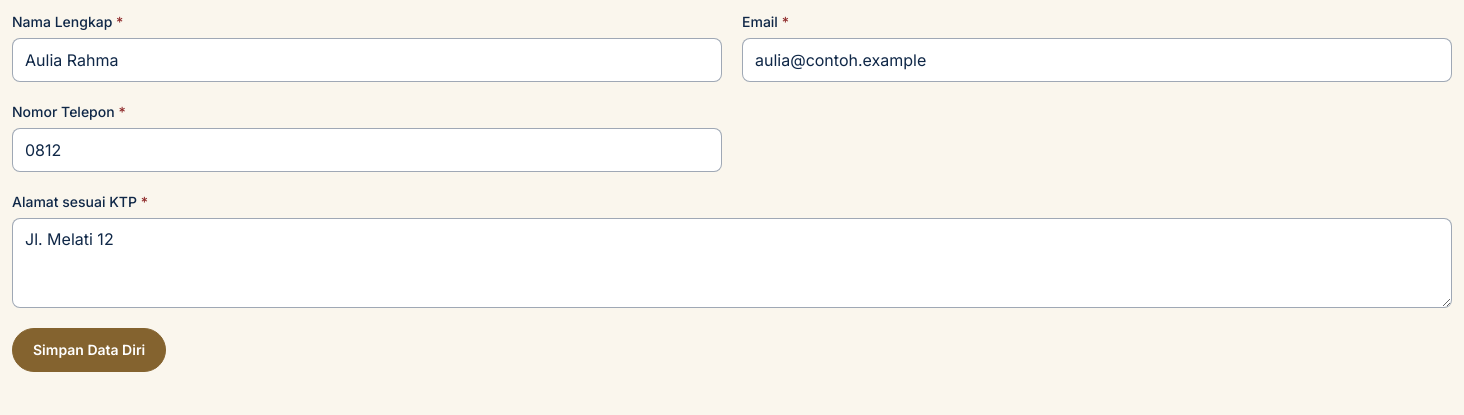
Test: FormProfil (FR-AKN-07/08) › validasi klien menahan pengiriman
Replace the text in the field labelled "Email *" with "bukan-email". click: [1097, 60]
box: [742,38,1452,82]
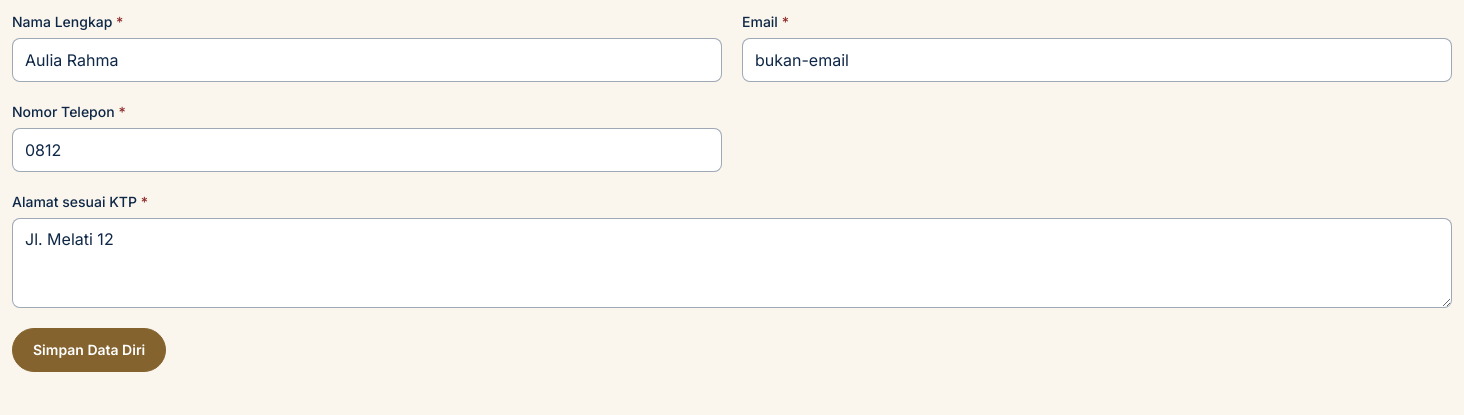
Click the button "Simpan Data Diri". click: [89, 350]
box: [12,328,166,372]
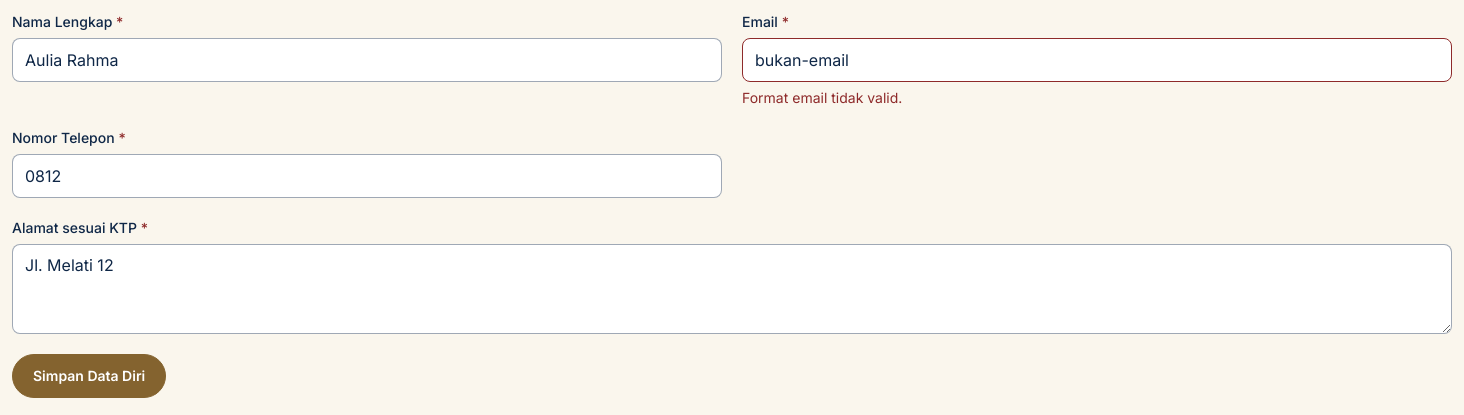
Now the text "Format email tidak valid." is shown, box [742,89,902,106]
